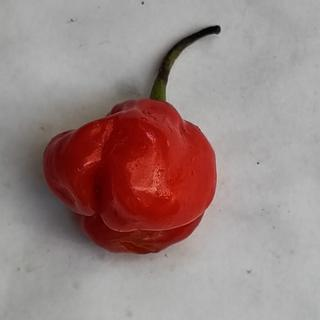Grade-B: (34, 91, 221, 257)
